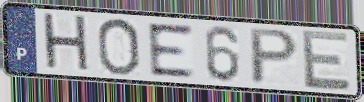6: (203, 23, 242, 85)
E: (299, 27, 354, 92), (144, 22, 197, 79)
H: (40, 11, 93, 76)
O: (95, 16, 142, 77)
P: (248, 26, 301, 86)
